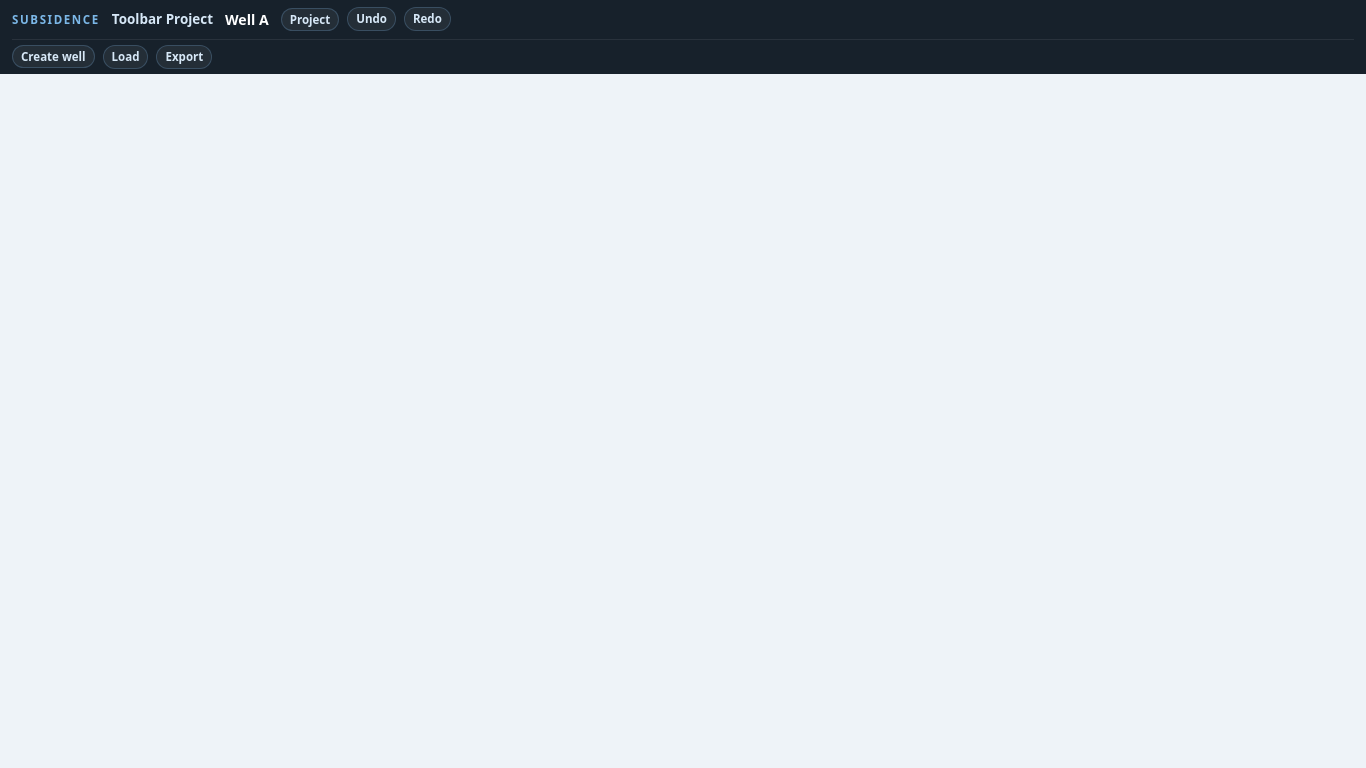
ProjectToolbar menu › opens the checkpoint creation dialog from the project menu
Click the button "Project": click(310, 19) [281,8,339,31]
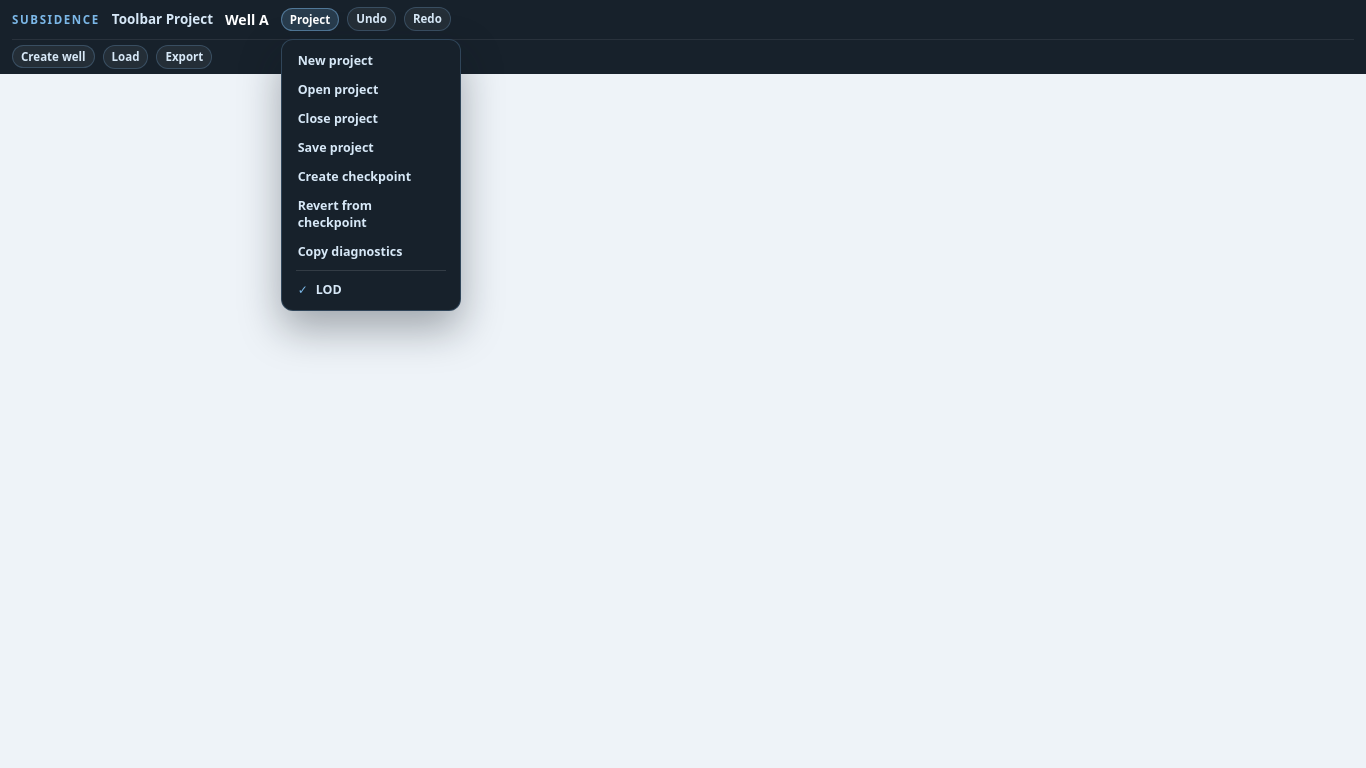
Click the button "Create checkpoint": click(371, 177) [288,162,454,191]
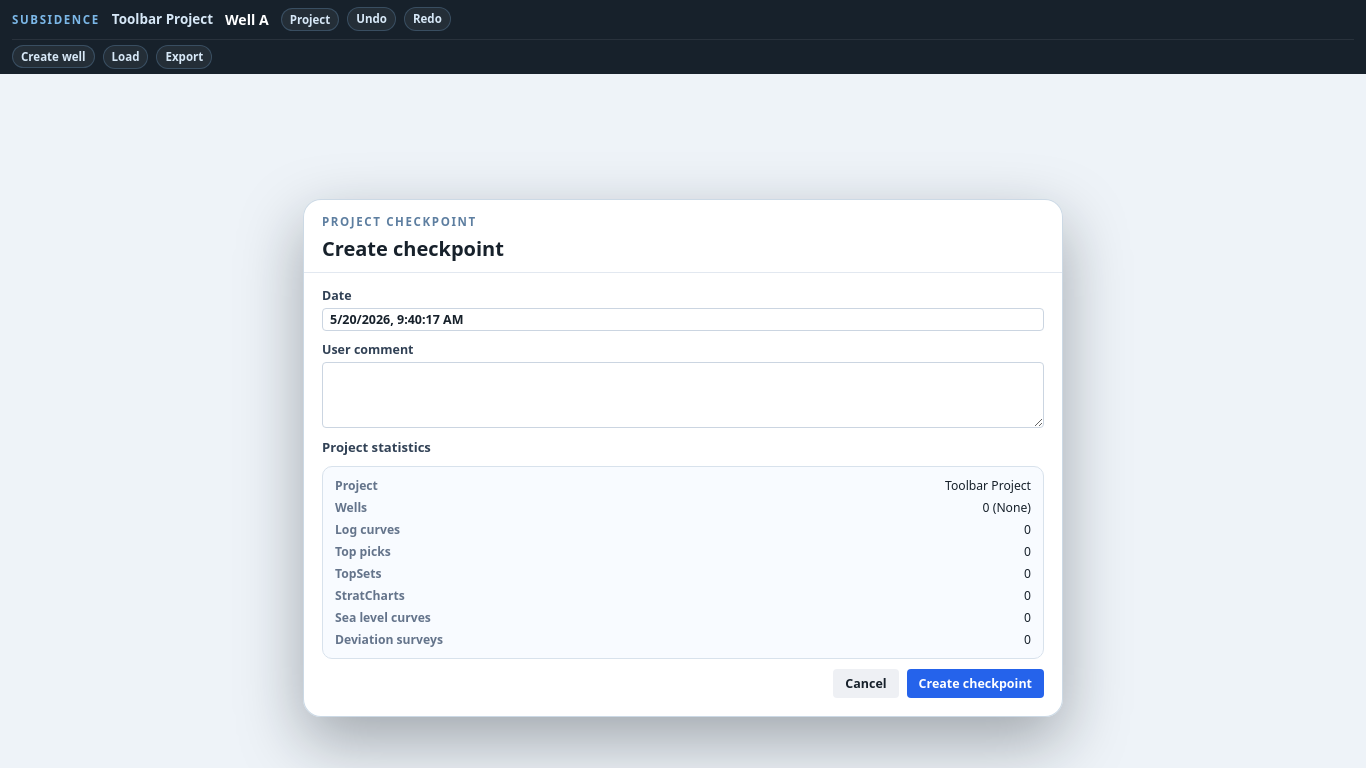
Expected: the heading "Create checkpoint" is shown, [322,234,504,262]
Expected: the text "Date" is shown, [322,286,1044,330]
Expected: the text "User comment" is shown, [322,340,1044,428]
